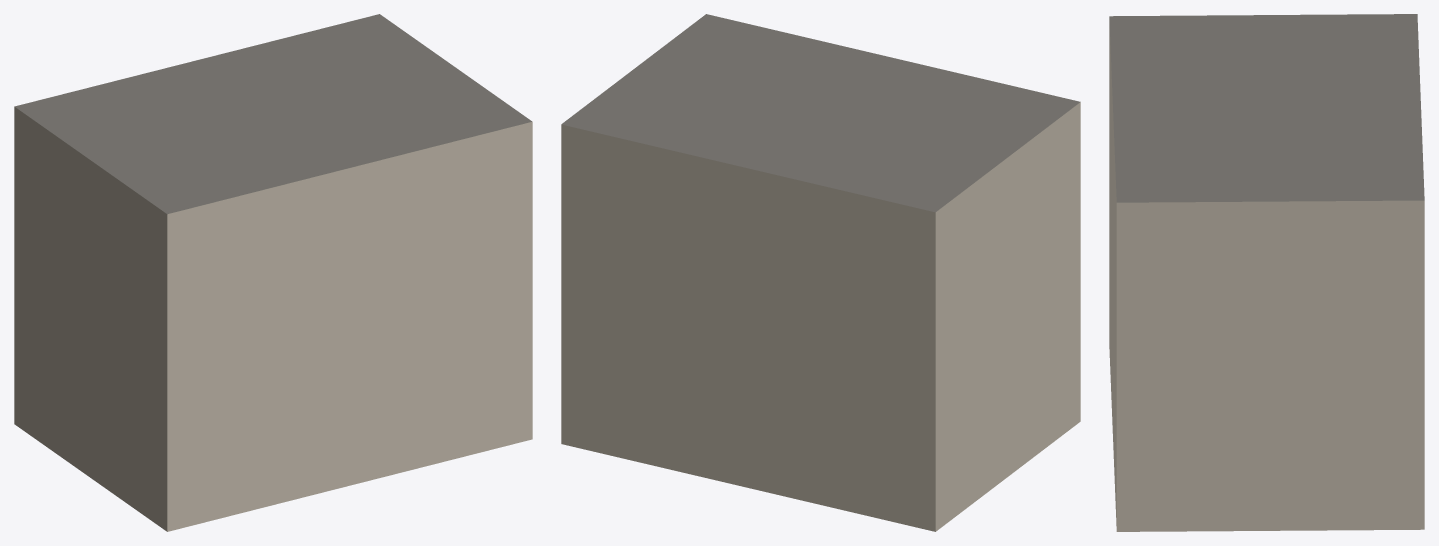
3 views of the same model, side by side, from view 1: azimuth 30°, elevation 25°; view 2: azimuth 150°, elevation 25°; view 3: azimuth 270°, elevation 25° (orthographic). The views are drawn at different scales.
Visible parts, largest first — view 1: HP-w858824351; view 2: HP-w858824351; view 3: HP-w858824351.
Part boxes in pixels (<box>): HP-w858824351: <box>14,14,532,531</box>; HP-w858824351: <box>561,14,1080,531</box>; HP-w858824351: <box>1109,14,1424,531</box>.
Size of the model in its own units: 22.13 by 18 by 15.62.
